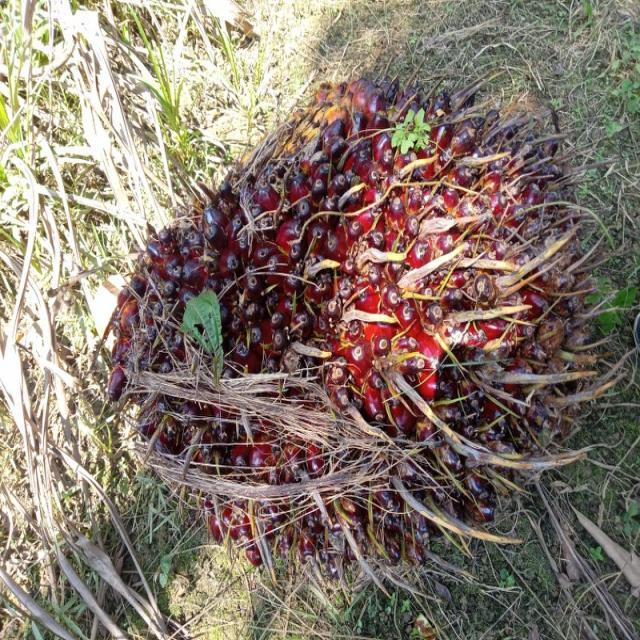fraksi 1: (76, 21, 596, 576)
